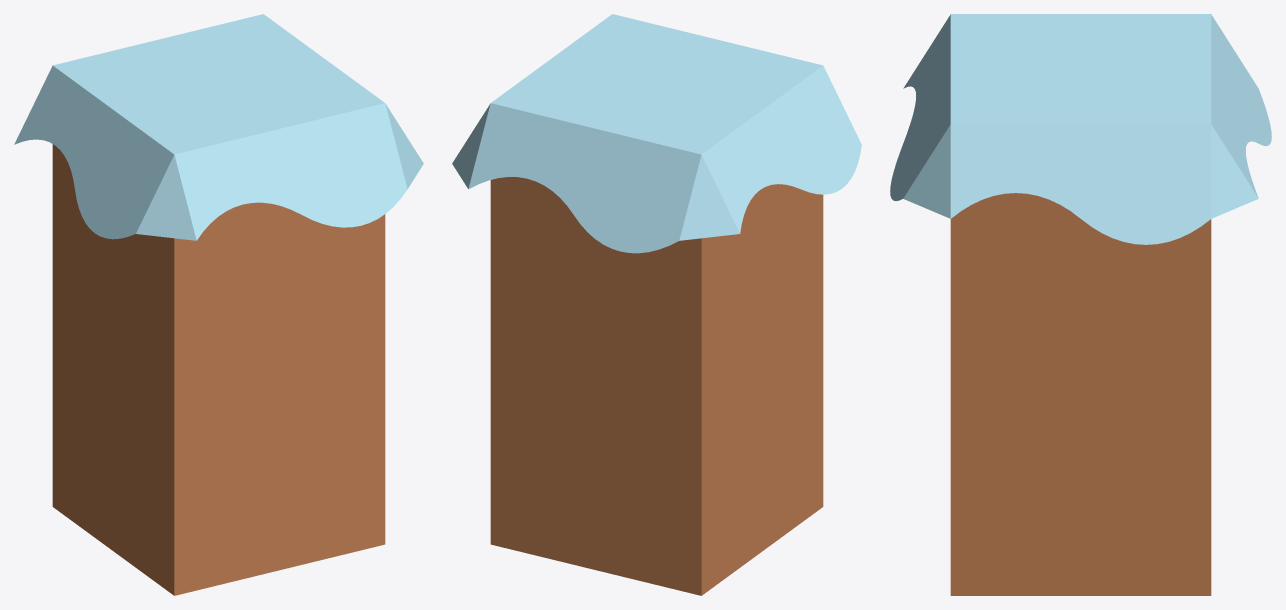
File: blockSnowQuarter.glb
The picture shows the model from 3 angles, left to right: view 1: azimuth 30°, elevation 25°; view 2: azimuth 150°, elevation 25°; view 3: azimuth 270°, elevation 25°; orthographic projection. The views are drawn at different scales.
Parts seen in each view (by area): view 1: blockSnowQuarter; view 2: blockSnowQuarter; view 3: blockSnowQuarter.
Boxes of the visible parts, x1,y1,x2,y2 form: blockSnowQuarter: (14, 14, 423, 595); blockSnowQuarter: (452, 14, 861, 595); blockSnowQuarter: (890, 14, 1271, 595).
Bounding box in the file's own units: 0.733 × 1 × 0.733.
